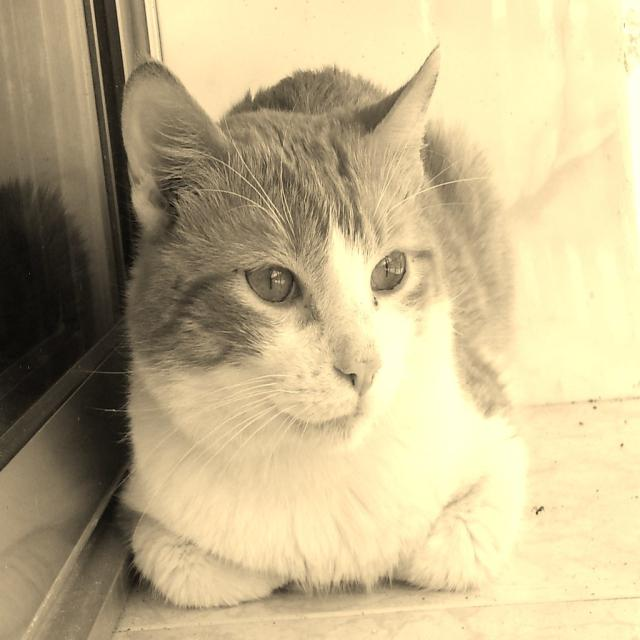Cat: (124, 42, 522, 608)
